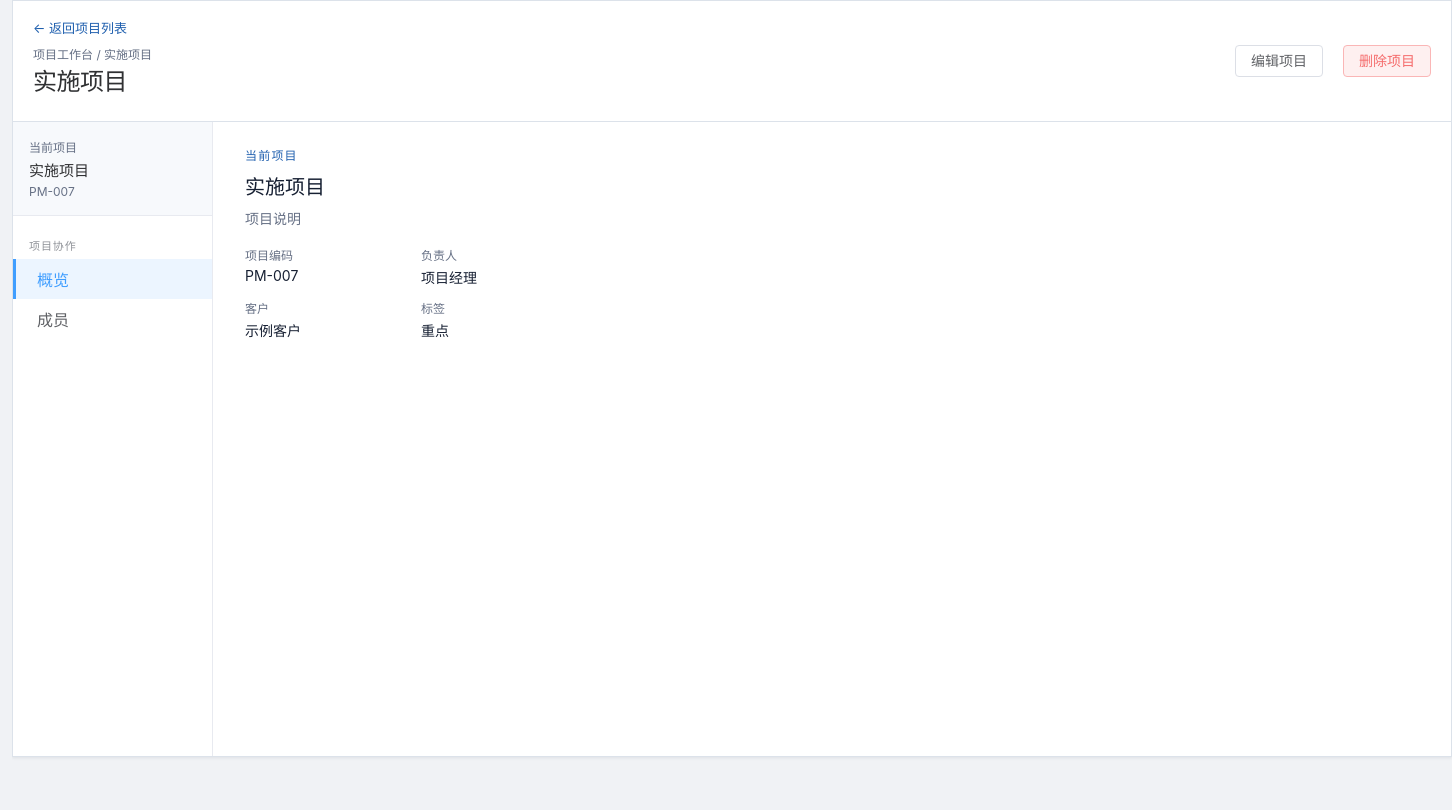
it: ProjectWorkspace › places project modules in a vertical menu labelled with the selected project
Expected: the element showing "当前项目 实施项目 PM-007 项目协作 概览 成员" is shown, [13,122,213,756]
Click the button with test id "back-to-projects". click: coordinates (80, 28)
box: [33,18,127,37]
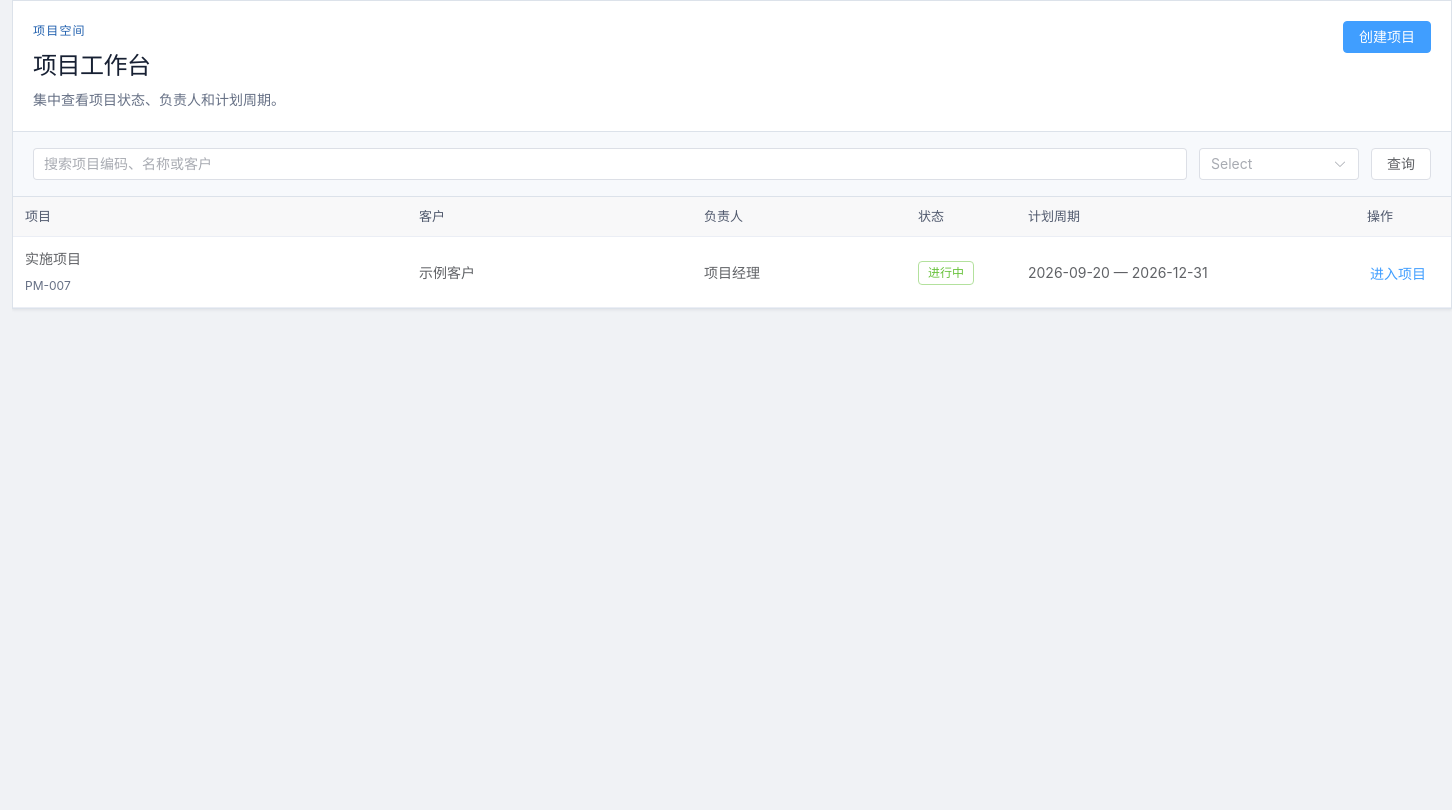
Expected: the element with test id "project-list-view" is shown, [13,1,1451,308]
